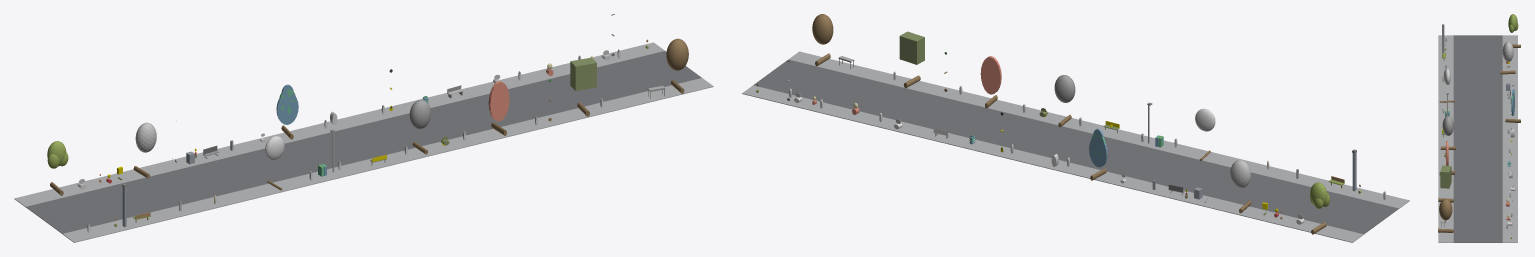
3 views of the same model, side by side, from view 1: azimuth 30°, elevation 25°; view 2: azimuth 150°, elevation 25°; view 3: azimuth 270°, elevation 25° (orthographic). The views are drawn at different scales.
Visible parts, largest first — view 1: road_slab, sidewalk_left, sidewalk_right, inst_0024, inst_0023, inst_0021, inst_0025, inst_0019, inst_0022, inst_0018, inst_0020; view 2: road_slab, sidewalk_right, sidewalk_left, inst_0024, inst_0023, inst_0021, inst_0025, inst_0022, inst_0019, inst_0018, inst_0020; view 3: road_slab, sidewalk_right, sidewalk_left, inst_0024, inst_0025, inst_0019, inst_0022, inst_0018, inst_0021, inst_0020, inst_0023, inst_0006.
Part boxes in pixels (x1=…): road_slab: x1=26, y1=51, x2=701, y2=233; sidewalk_left: x1=62, y1=78, x2=713, y2=242; sidewalk_right: x1=14, y1=42, x2=664, y2=207; inst_0024: x1=570, y1=57, x2=596, y2=116; inst_0023: x1=488, y1=81, x2=509, y2=135; inst_0021: x1=276, y1=84, x2=298, y2=139; inst_0025: x1=666, y1=38, x2=688, y2=93; inst_0019: x1=133, y1=122, x2=156, y2=178; inst_0022: x1=409, y1=99, x2=430, y2=154; inst_0018: x1=47, y1=141, x2=68, y2=195; inst_0020: x1=265, y1=136, x2=284, y2=190; road_slab: x1=753, y1=59, x2=1398, y2=234; sidewalk_right: x1=742, y1=85, x2=1363, y2=242; sidewalk_left: x1=788, y1=51, x2=1409, y2=208; inst_0024: x1=899, y1=31, x2=924, y2=87; inst_0023: x1=980, y1=56, x2=1001, y2=108; inst_0021: x1=1089, y1=128, x2=1107, y2=180; inst_0025: x1=812, y1=14, x2=833, y2=66; inst_0022: x1=1054, y1=75, x2=1075, y2=127; inst_0019: x1=1230, y1=160, x2=1251, y2=213; inst_0018: x1=1310, y1=182, x2=1329, y2=234; inst_0020: x1=1195, y1=108, x2=1215, y2=160; road_slab: x1=1453, y1=35, x2=1502, y2=242; sidewalk_right: x1=1502, y1=35, x2=1517, y2=242; sidewalk_left: x1=1438, y1=35, x2=1453, y2=242; inst_0024: x1=1438, y1=165, x2=1453, y2=202; inst_0025: x1=1438, y1=199, x2=1453, y2=232; inst_0019: x1=1500, y1=42, x2=1515, y2=74; inst_0022: x1=1440, y1=116, x2=1455, y2=149; inst_0018: x1=1508, y1=14, x2=1520, y2=47; inst_0021: x1=1505, y1=89, x2=1520, y2=122; inst_0020: x1=1439, y1=68, x2=1454, y2=102; inst_0023: x1=1439, y1=141, x2=1454, y2=174; inst_0006: x1=1442, y1=24, x2=1444, y2=52.
Size of the model in its own units: 80 by 6.08 by 13.52.
